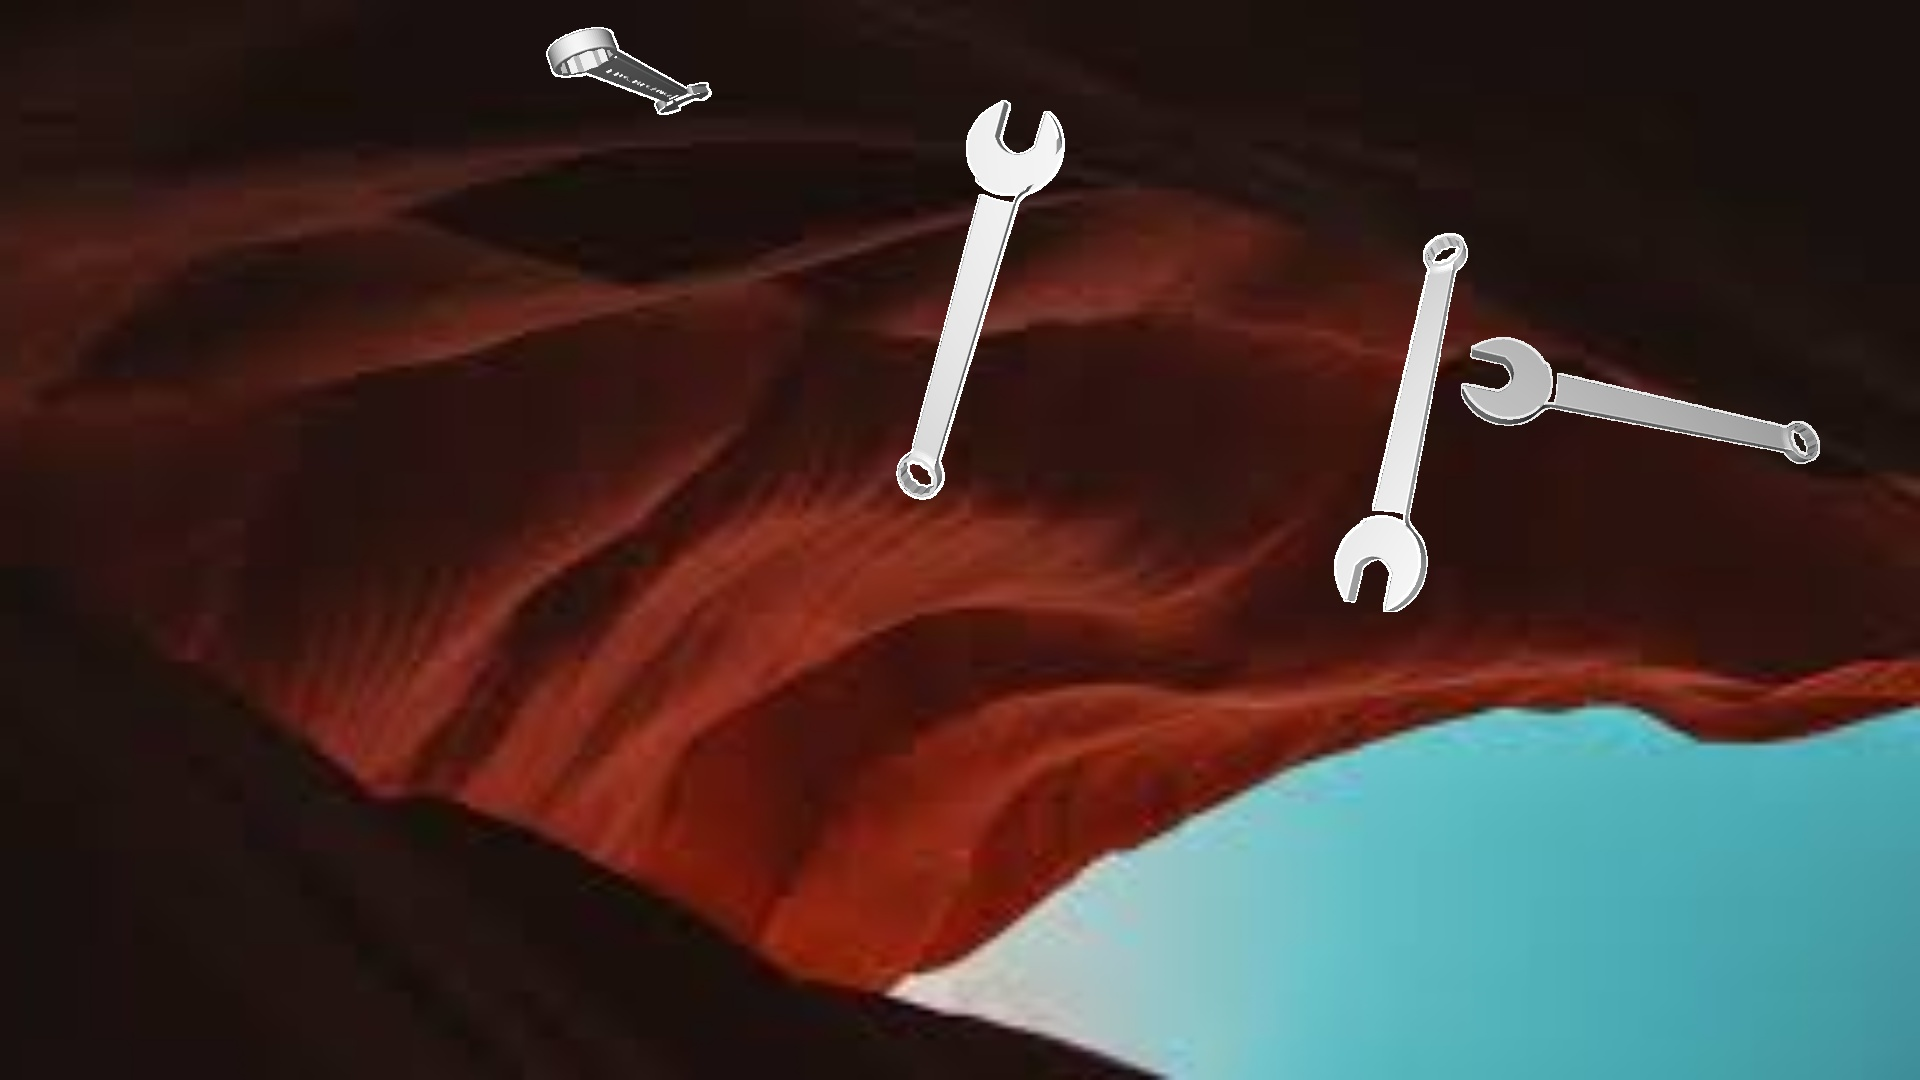Mixed Key: (895, 100, 1064, 498), (1335, 233, 1466, 611), (1461, 338, 1818, 463), (546, 26, 711, 113)
